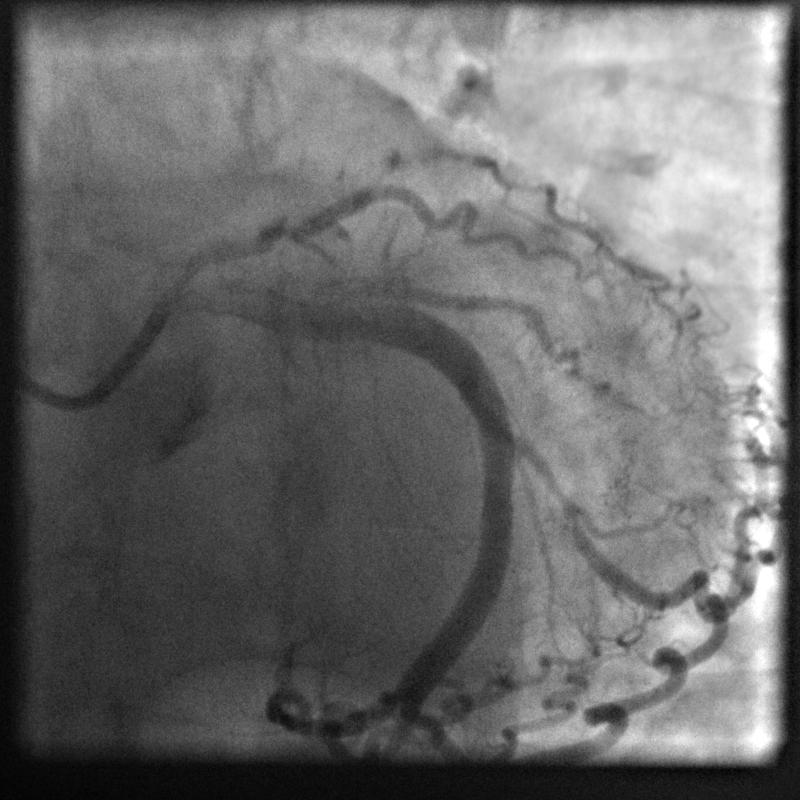Stenosis: (492, 398, 591, 524)
